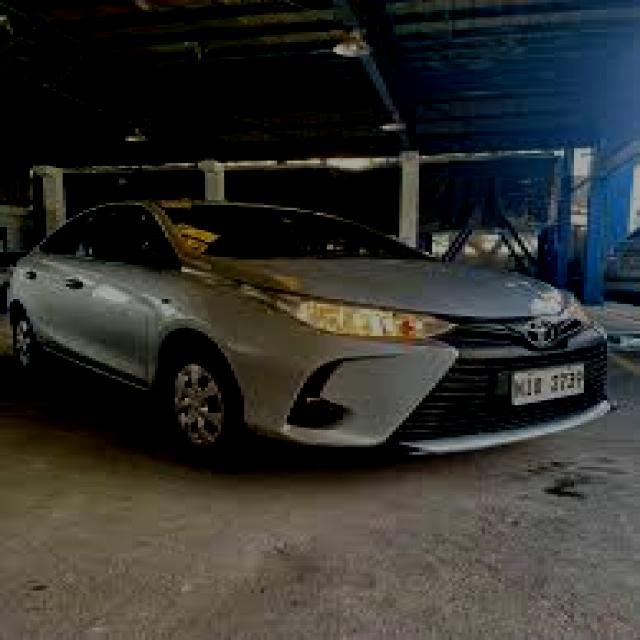ToyotaVios: (7, 196, 613, 462)
